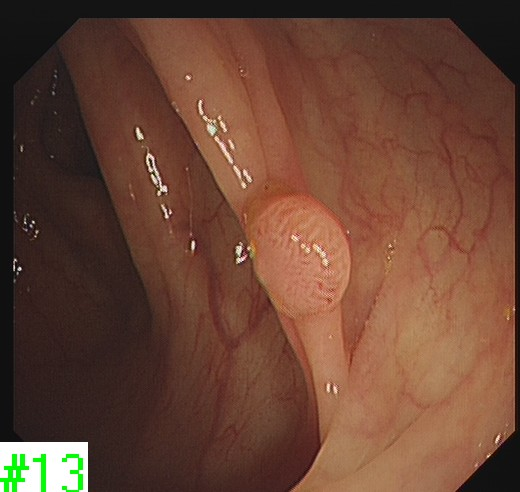adenoma: (243, 187, 353, 321)
